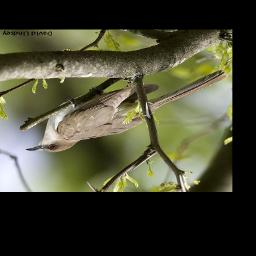Cuckoo: (28, 70, 229, 154)
